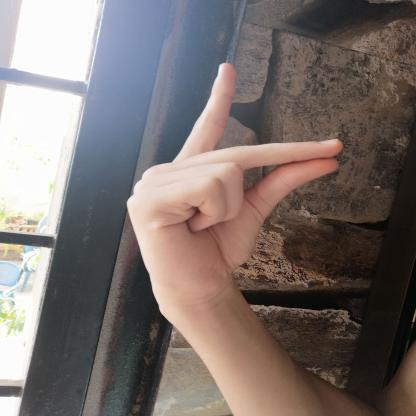TAA: (107, 49, 354, 320)
